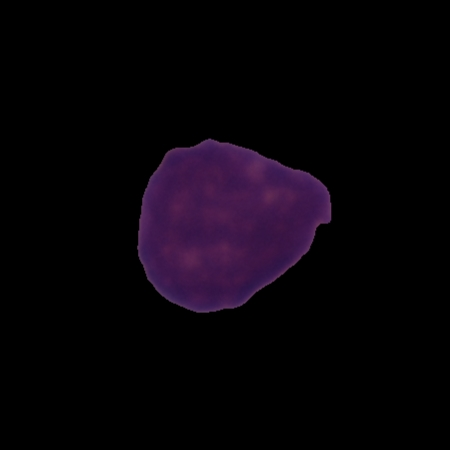HEM: (134, 135, 335, 315)
